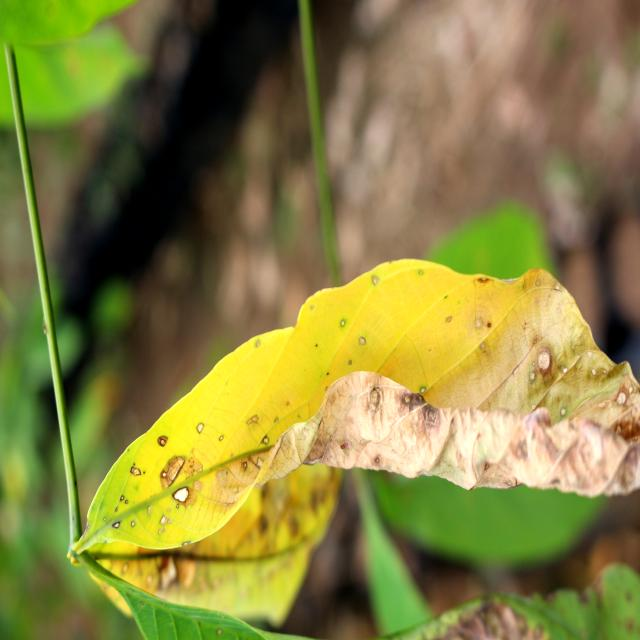Colletotrichum: (535, 347, 552, 375), (173, 486, 189, 503), (616, 390, 628, 406), (158, 435, 168, 447), (196, 423, 204, 433), (359, 336, 366, 346), (112, 522, 120, 529), (263, 436, 268, 444), (561, 408, 566, 416), (374, 458, 380, 463), (420, 388, 426, 393), (341, 320, 345, 327), (131, 520, 135, 526), (162, 472, 166, 478), (243, 462, 247, 468), (220, 435, 223, 441), (120, 496, 124, 500), (125, 499, 128, 504), (176, 504, 179, 508), (488, 323, 490, 328), (103, 518, 106, 521), (115, 508, 118, 511), (143, 471, 145, 474)
Leaf-Blight: (256, 371, 640, 499)
